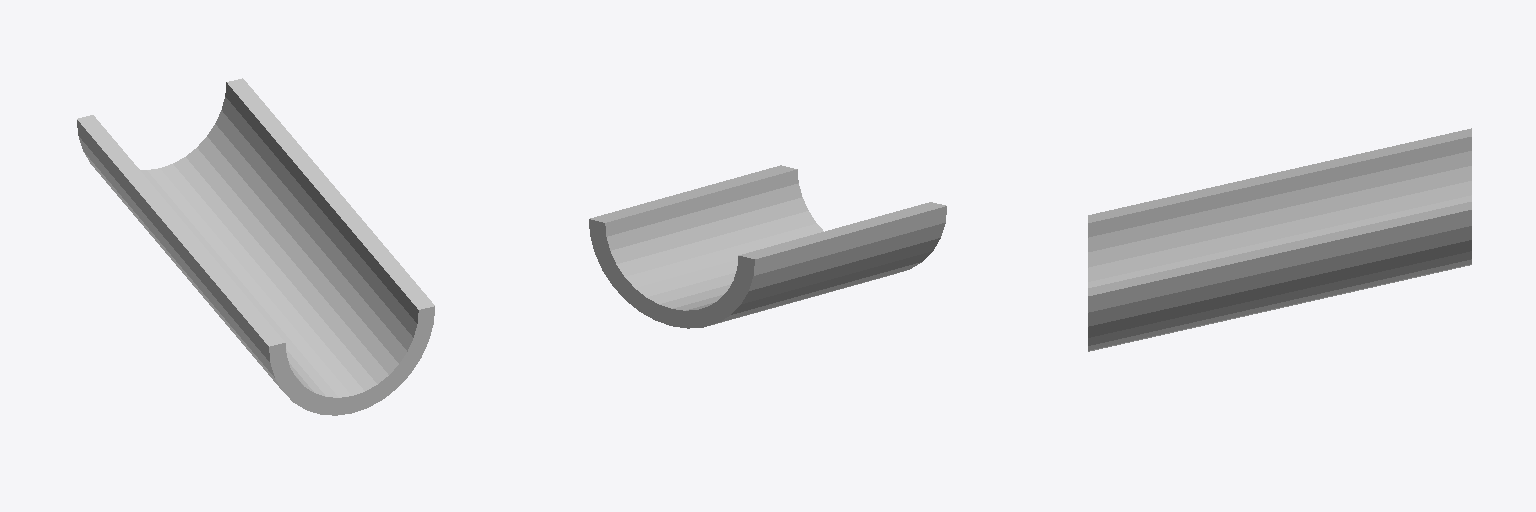
File: forward_down.obj
3 renders of one model, left to right at view 1: azimuth 30°, elevation 25°; view 2: azimuth 150°, elevation 25°; view 3: azimuth 270°, elevation 25°, orthographic.
Parts seen in each view (by area): view 1: ForwardDown1_Circle; view 2: ForwardDown1_Circle; view 3: ForwardDown1_Circle.
Part boxes in pixels (x1,y1,x2,y2): ForwardDown1_Circle: (77, 78, 434, 415); ForwardDown1_Circle: (589, 165, 946, 328); ForwardDown1_Circle: (1088, 128, 1471, 351).
Bounding box in the file's own units: 2 × 2 × 4.